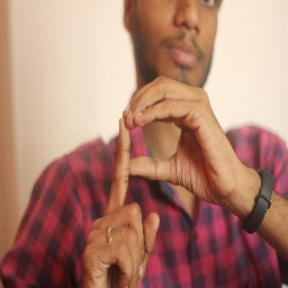P: (80, 75, 222, 277)
